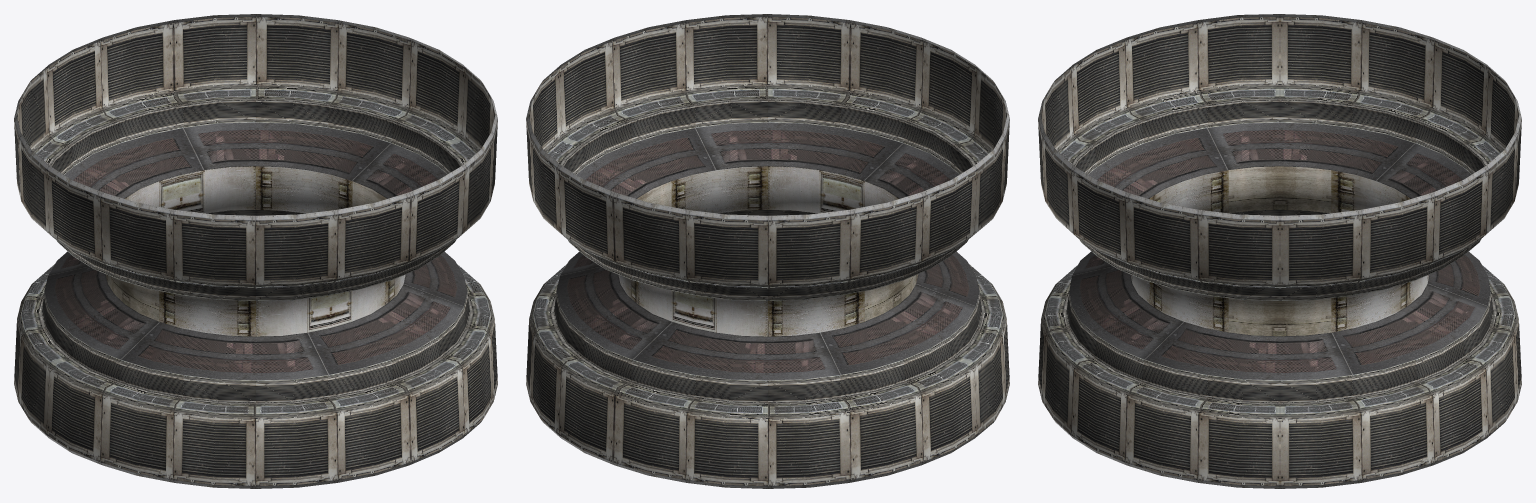
Rendered from CylTube_02.fbx.
3 renders of one model, left to right at view 1: azimuth 30°, elevation 25°; view 2: azimuth 150°, elevation 25°; view 3: azimuth 270°, elevation 25°, orthographic.
Parts seen in each view (by area): view 1: CylTube_02; view 2: CylTube_02; view 3: CylTube_02.
Boxes of the visible parts, box(x1,y1,x2,y2) form: CylTube_02: box(14, 14, 497, 488); CylTube_02: box(526, 14, 1009, 488); CylTube_02: box(1038, 14, 1521, 488).
Size of the model in its own units: 801 by 500 by 803.
